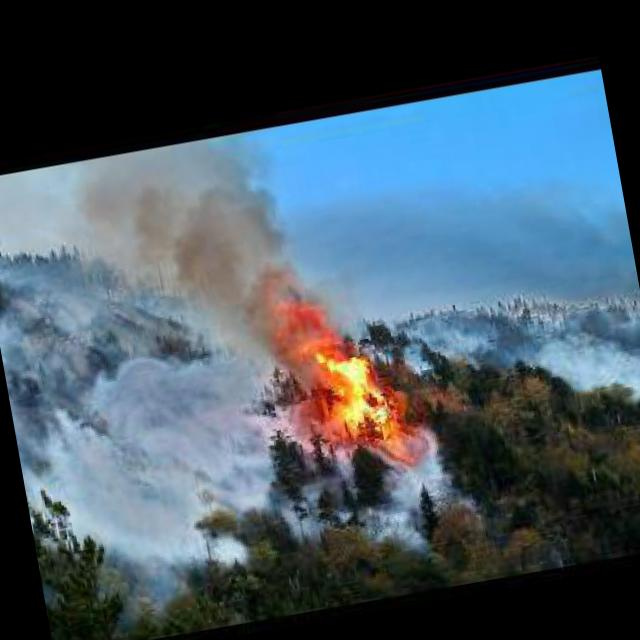fire: (323, 336, 394, 431)
smoke: (75, 137, 313, 377)
